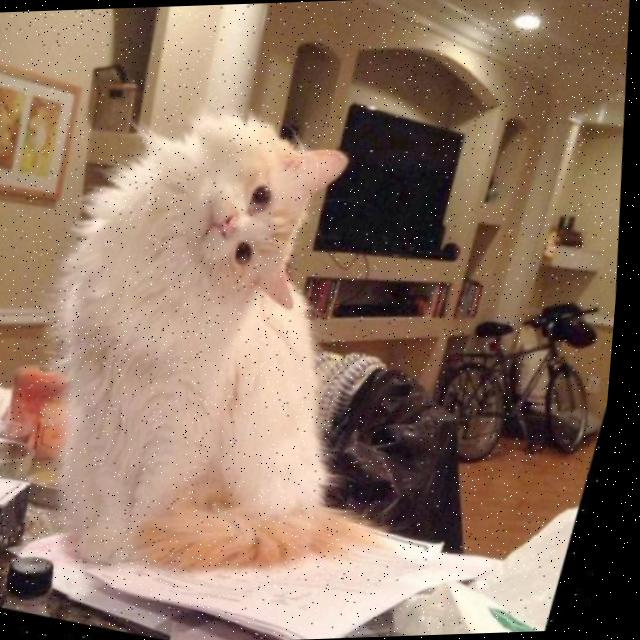Cats: (0, 85, 405, 600)
